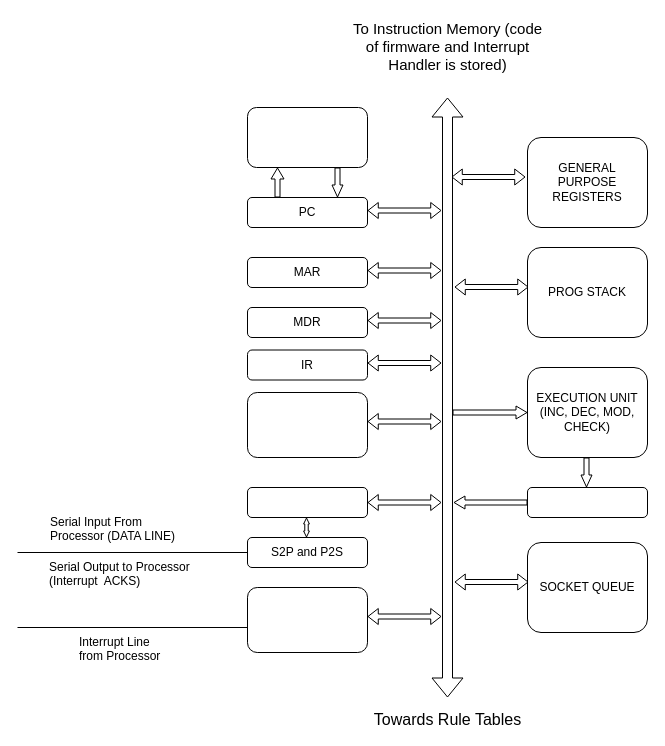
Some shapes in this 665 by 746 pixel diagram are drawn without their labels. The shapes that lost their labels are listed below. From the top down, each one's centre as x and y in pixels, then its label:
point 307,137: INCREMENTER
point 307,425: CONTROL REGISTERS
point 307,502: COMM
point 587,502: ANS
point 307,619: INTERRUPT HANDLING UNIT
